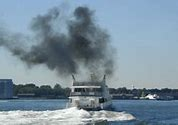smoke: (1, 4, 113, 74)
